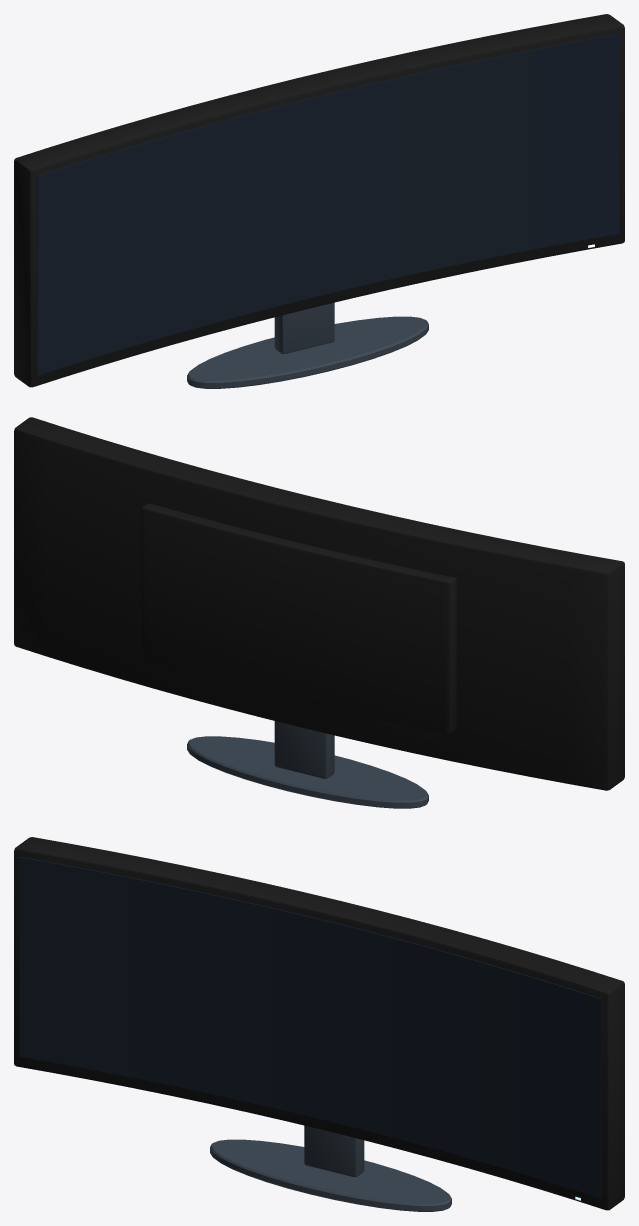
The model's file is ultrawide-monitor.glb.
3 renders of one model, top to bottom at view 1: azimuth 30°, elevation 25°; view 2: azimuth 150°, elevation 25°; view 3: azimuth 330°, elevation 25°, orthographic.
Visible parts, largest first — view 1: ultrawide-monitor; view 2: ultrawide-monitor; view 3: ultrawide-monitor.
Part boxes in pixels (x1=…): ultrawide-monitor: x1=14, y1=14, x2=624, y2=388; ultrawide-monitor: x1=14, y1=417, x2=624, y2=808; ultrawide-monitor: x1=14, y1=837, x2=624, y2=1211.
Size of the model in its own units: 0.82 by 0.36 by 0.1.
